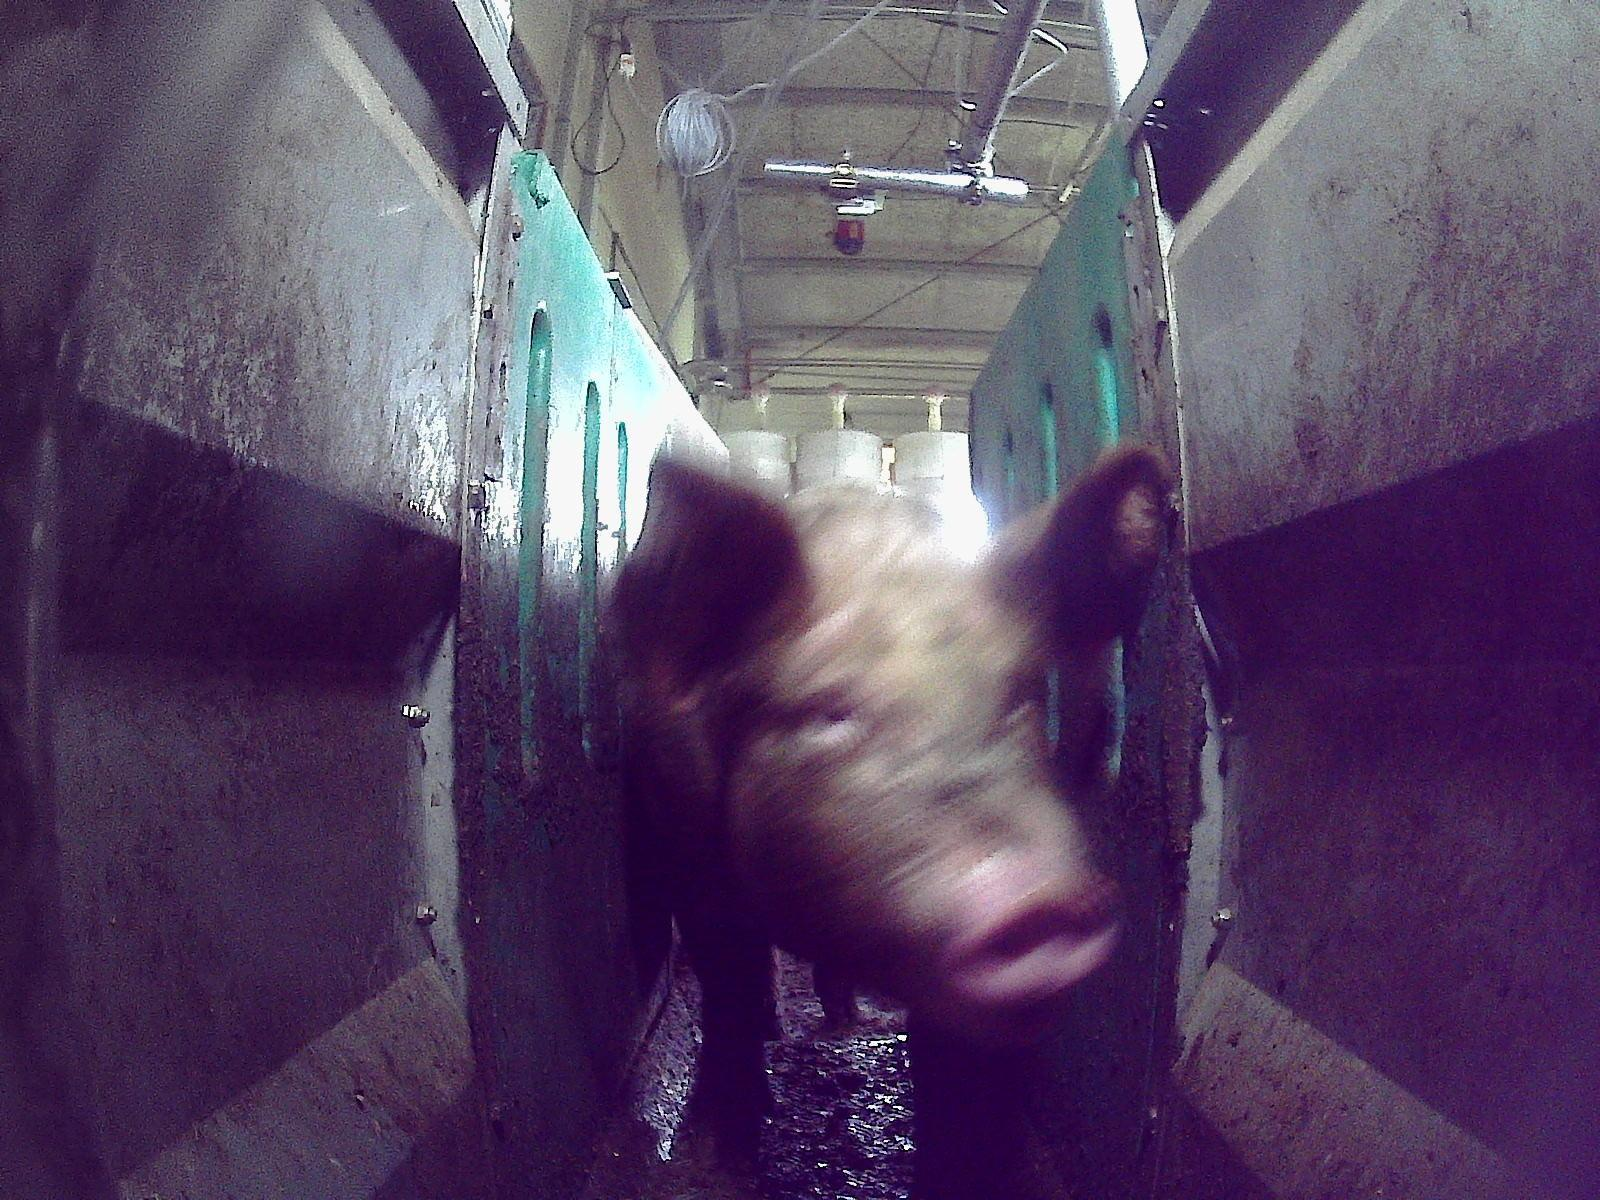Face: (697, 539, 1122, 1038)
